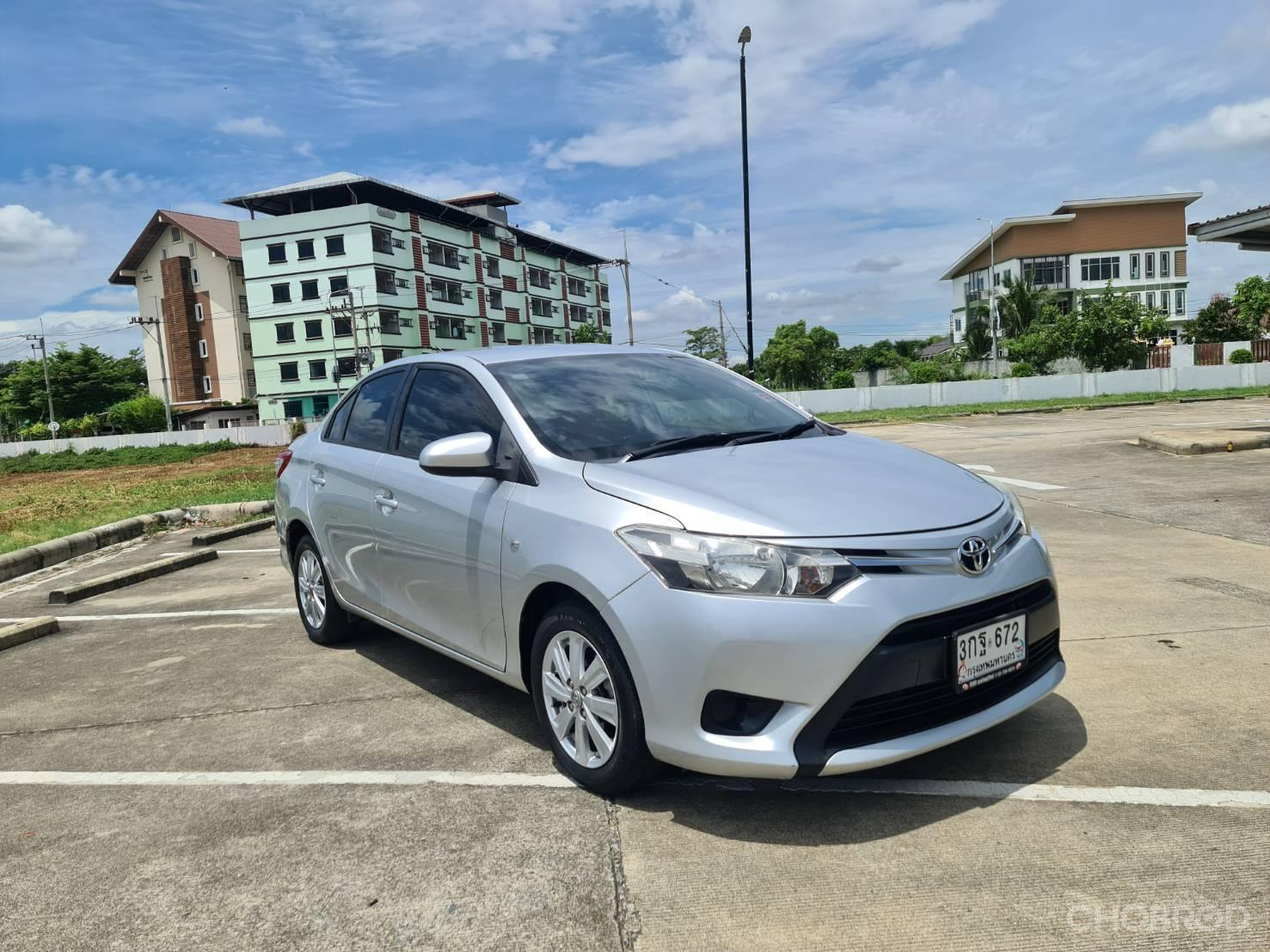license-plate: (950, 611, 1031, 696)
